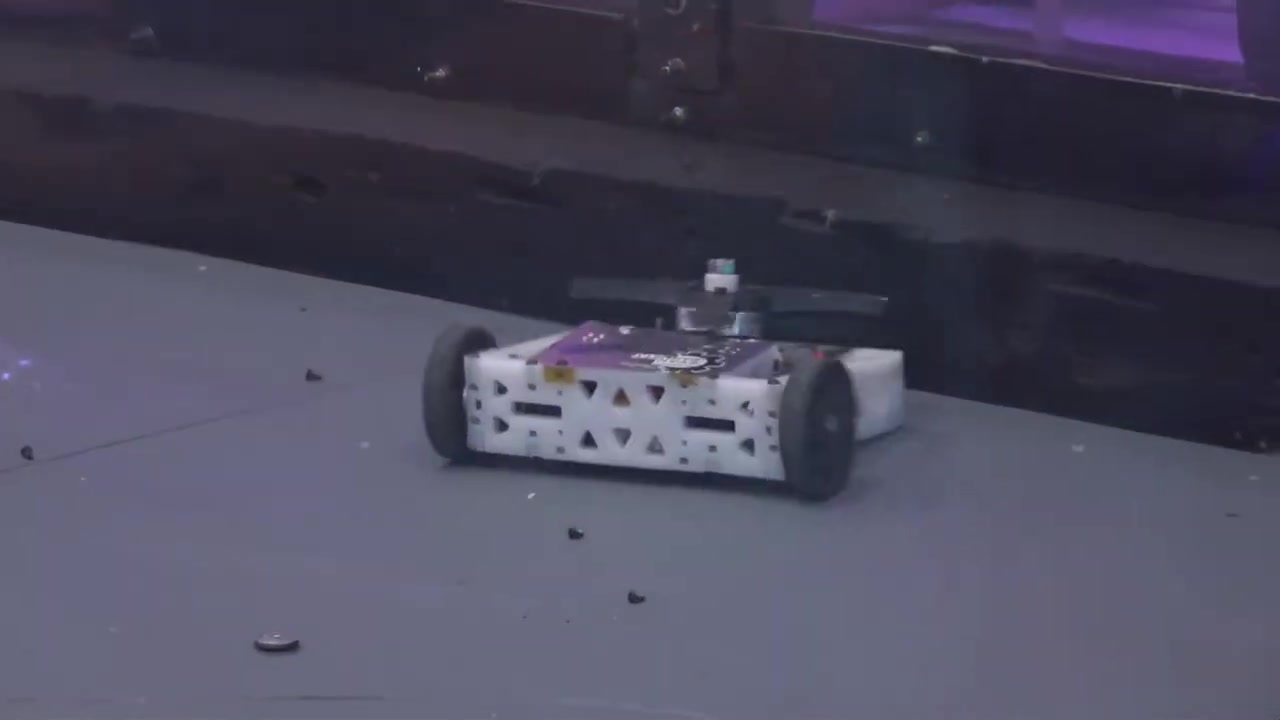combatbot: (421, 259, 904, 500)
debris: (249, 624, 309, 657)
